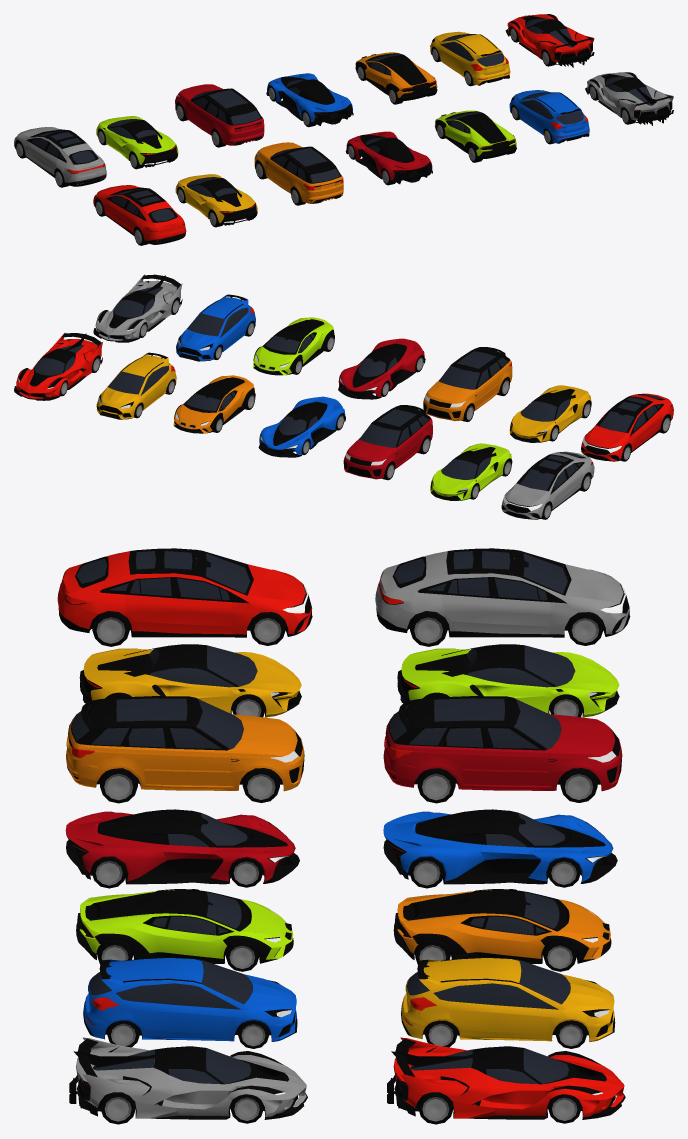
File: UltimatePack.fbx
The picture shows the model from 3 angles, top to bottom: view 1: azimuth 30°, elevation 25°; view 2: azimuth 150°, elevation 25°; view 3: azimuth 270°, elevation 25°; orthographic projection. The views are drawn at different scales.
Parts seen in each view (by area): view 1: Paint.009, Paint.004, Paint.010, Paint.003, Paint.006, Paint.007, Body.012, Body.002, Body.001, Body.013, Paint.008, Paint.005 (+28 smaller); view 2: Paint.004, Paint.009, Paint.010, Paint.003, Paint.008, Paint.005, Paint.007, Paint.006, Paint.011, Paint.002, Paint, Paint.013 (+36 smaller); view 3: Paint.010, Paint.003, Paint.004, Paint.009, Paint.006, Paint.007, Paint.008, Paint.005, Body.001, Body.013, Paint, Paint.013 (+46 smaller).
Boxes of the visible parts, x1,y1,x2,y2 form: Paint.009: [509, 90, 589, 143]; Paint.004: [430, 31, 510, 85]; Paint.010: [93, 185, 186, 242]; Paint.003: [14, 127, 106, 184]; Paint.006: [175, 84, 264, 145]; Paint.007: [254, 142, 343, 203]; Body.012: [435, 111, 516, 159]; Body.002: [355, 53, 437, 101]; Body.001: [266, 76, 353, 125]; Body.013: [345, 135, 432, 184]; Paint.008: [587, 72, 673, 120]; Paint.005: [507, 14, 594, 62]; Paint.004: [96, 353, 176, 418]; Paint.009: [176, 294, 255, 360]; Paint.010: [581, 393, 673, 460]; Paint.003: [502, 451, 594, 519]; Paint.008: [95, 274, 182, 340]; Paint.005: [16, 332, 102, 398]; Paint.007: [423, 360, 512, 421]; Paint.006: [343, 418, 432, 479]; Paint.011: [509, 385, 591, 442]; Paint.002: [430, 443, 511, 500]; Paint: [259, 396, 345, 454]; Paint.013: [338, 338, 424, 396]; Paint.010: [57, 551, 312, 634]; Paint.003: [375, 551, 629, 634]; Paint.004: [401, 958, 614, 1041]; Paint.009: [83, 958, 296, 1041]; Paint.006: [383, 714, 622, 791]; Paint.007: [66, 714, 304, 791]; Paint.008: [76, 1037, 306, 1118]; Paint.005: [393, 1037, 624, 1118]; Body.001: [383, 809, 617, 884]; Body.013: [66, 809, 299, 884]; Paint: [383, 811, 613, 881]; Paint.013: [65, 811, 295, 881].
Bounding box in the file's own units: 2508 × 179 × 1170.
